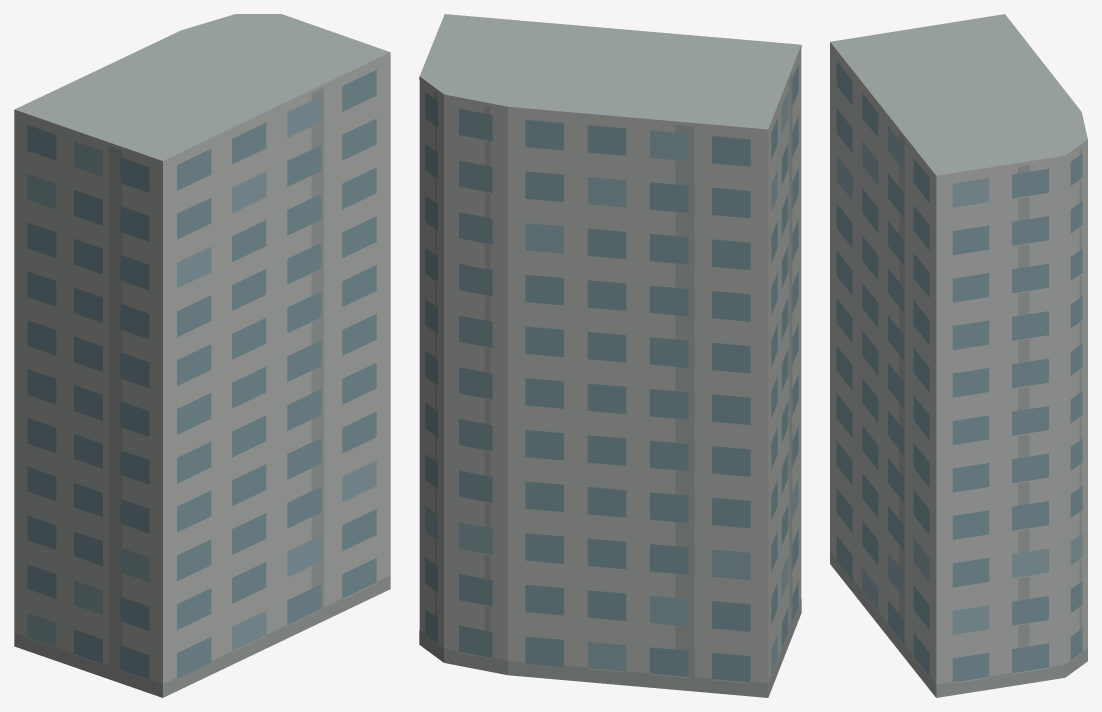
Rendered from residential-022488a0-a3a8-4662-8262-46e7c4eae1e1.glb.
3 views of the same model, side by side, from view 1: azimuth 30°, elevation 25°; view 2: azimuth 150°, elevation 25°; view 3: azimuth 270°, elevation 25° (orthographic). The views are drawn at different scales.
Parts seen in each view (by area): view 1: residential-022488a0-a3a8-4662-8262-46e7c4eae1e1.tmp; view 2: residential-022488a0-a3a8-4662-8262-46e7c4eae1e1.tmp; view 3: residential-022488a0-a3a8-4662-8262-46e7c4eae1e1.tmp.
Boxes of the visible parts, x1,y1,x2,y2 form: residential-022488a0-a3a8-4662-8262-46e7c4eae1e1.tmp: (14, 14, 390, 697); residential-022488a0-a3a8-4662-8262-46e7c4eae1e1.tmp: (419, 14, 801, 697); residential-022488a0-a3a8-4662-8262-46e7c4eae1e1.tmp: (830, 14, 1087, 697).
Size of the model in its own units: 25.26 by 38 by 17.01.
